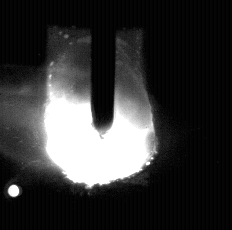arame: (92, 0, 116, 140)
poca: (45, 0, 157, 230)
